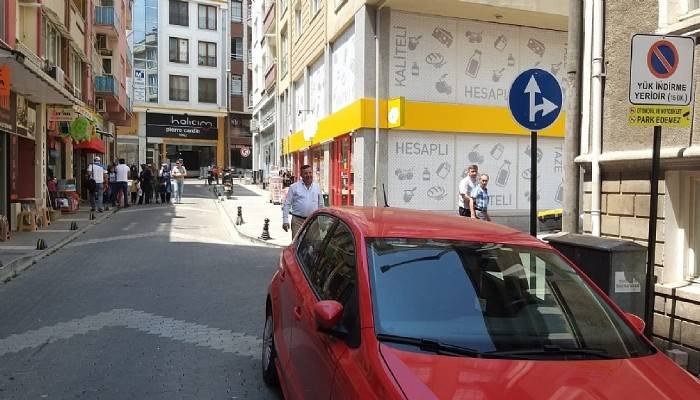ileri_veya_saga: (509, 69, 565, 133)
otomobil: (246, 205, 699, 399)
yaya: (270, 161, 341, 232), (456, 156, 510, 219)
